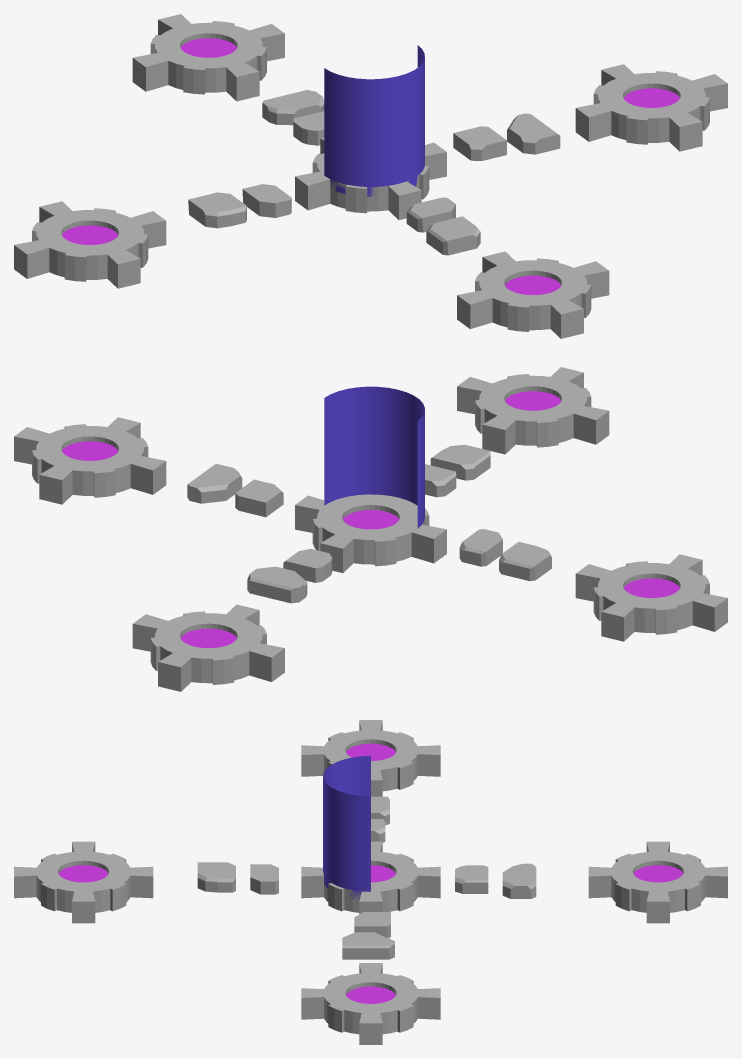
The model's file is StageSelect.fbx.
The picture shows the model from 3 angles, top to bottom: view 1: azimuth 30°, elevation 25°; view 2: azimuth 150°, elevation 25°; view 3: azimuth 270°, elevation 25°; orthographic projection. The views are drawn at different scales.
Parts seen in each view (by area): view 1: Cube, Doom; view 2: Cube, Doom; view 3: Cube, Doom.
Part boxes in pixels (box(x1,y1,x2,y2)): Cube: box(14, 14, 727, 338); Doom: box(324, 45, 424, 196); Cube: box(14, 367, 727, 691); Doom: box(324, 386, 424, 528); Cube: box(14, 720, 727, 1044); Doom: box(323, 756, 370, 899).
Bounding box in the file's own units: 1497 × 270 × 1491.
